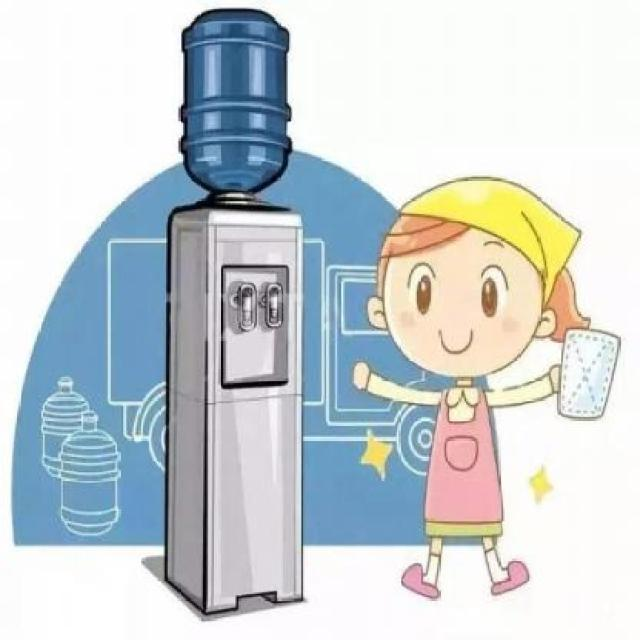cooler: (163, 5, 305, 617)
